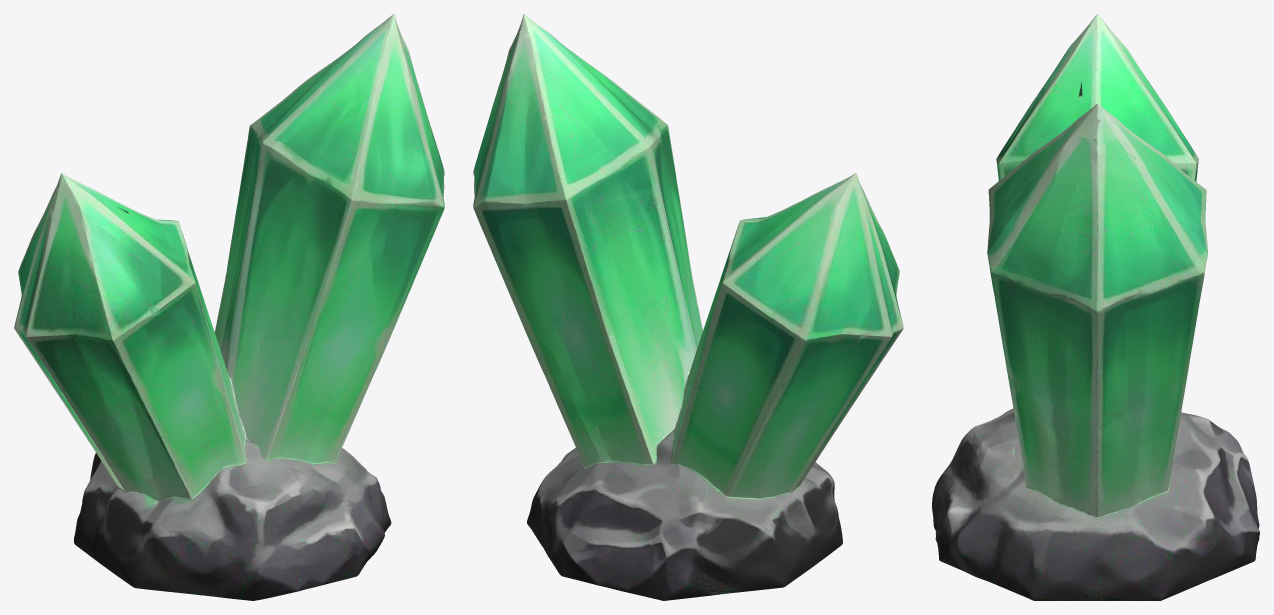
Rendered from et_vein1.glb.
3 renders of one model, left to right at view 1: azimuth 30°, elevation 25°; view 2: azimuth 150°, elevation 25°; view 3: azimuth 270°, elevation 25°, orthographic. The views are drawn at different scales.
Size of the model in its own units: 1.58 by 1.9 by 0.9874.
Materials: 1 (1 with a texture image).
